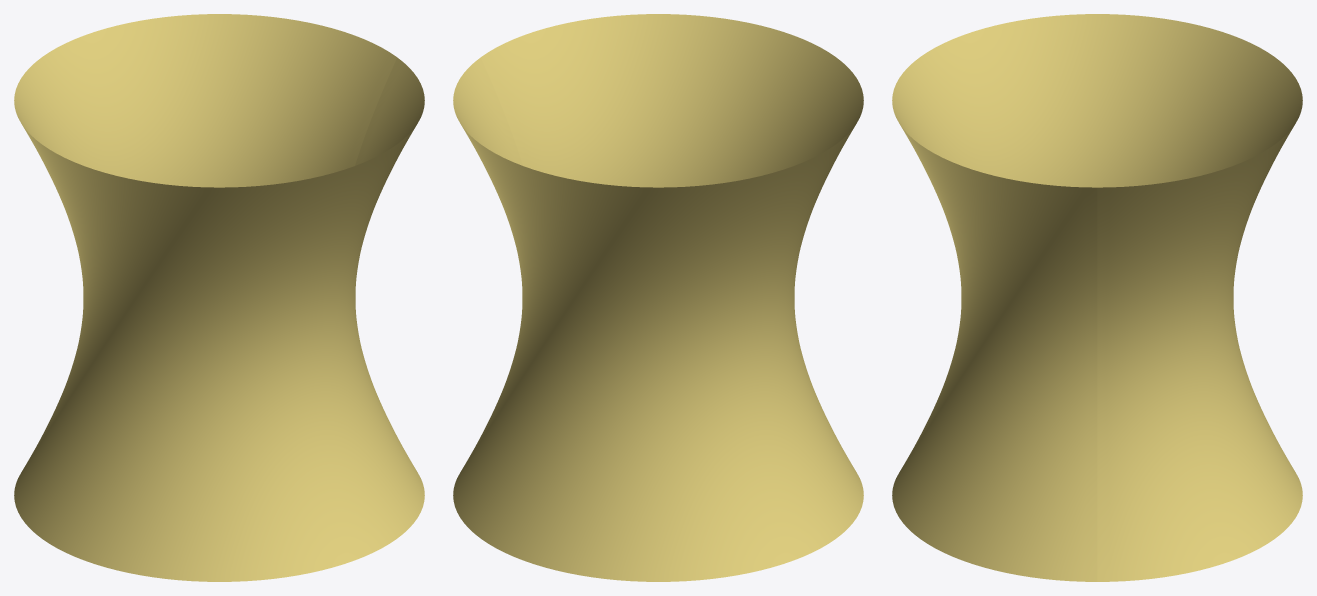
File: ex_hyperboloid.glb
3 renders of one model, left to right at view 1: azimuth 30°, elevation 25°; view 2: azimuth 150°, elevation 25°; view 3: azimuth 270°, elevation 25°, orthographic.
Visible parts, largest first — view 1: Hyperboloid; view 2: Hyperboloid; view 3: Hyperboloid.
Part boxes in pixels (x1=…): Hyperboloid: x1=14, y1=14, x2=424, y2=581; Hyperboloid: x1=453, y1=14, x2=863, y2=581; Hyperboloid: x1=892, y1=14, x2=1302, y2=581.
Bounding box in the file's own units: 3.02 × 3.2 × 3.02.
